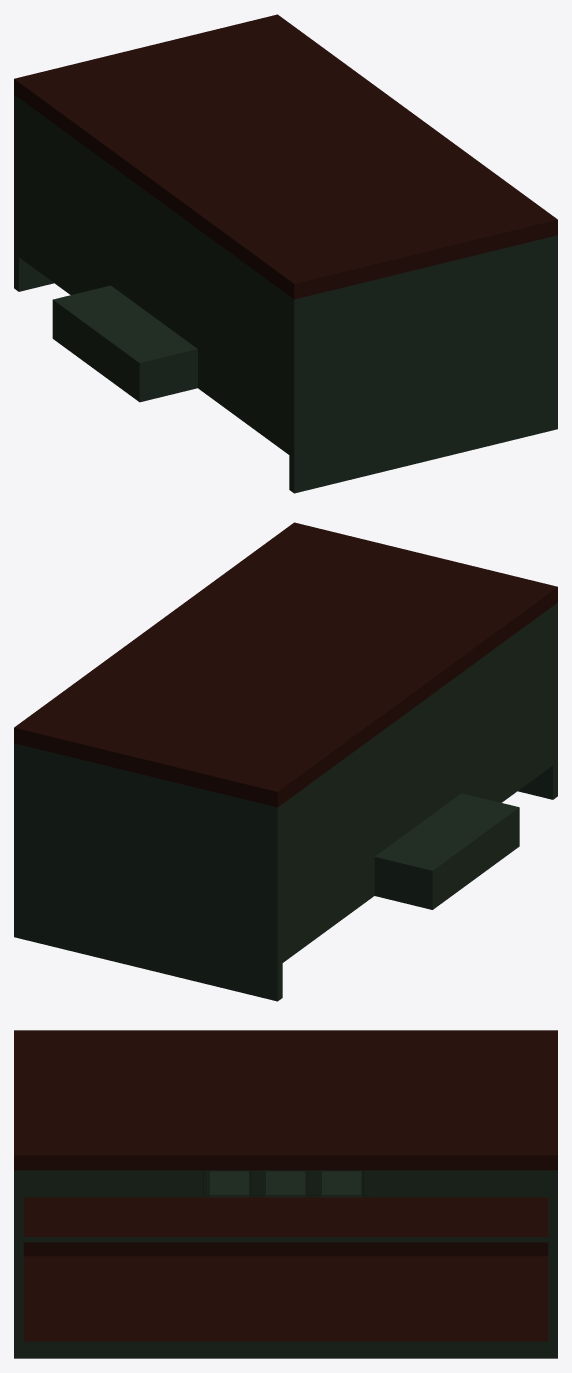
File: montehallStage.glb
3 views of the same model, one above another, from view 1: azimuth 30°, elevation 25°; view 2: azimuth 150°, elevation 25°; view 3: azimuth 270°, elevation 25° (orthographic). The views are drawn at different scales.
Visible parts, largest first — view 1: Stage2; view 2: Stage2; view 3: Stage2.
Part boxes in pixels (x1,y1,x2,y2): Stage2: [14, 14, 557, 493]; Stage2: [14, 522, 557, 1001]; Stage2: [14, 1030, 557, 1358].
Size of the model in its own units: 64.92 by 40.4 by 97.95.
